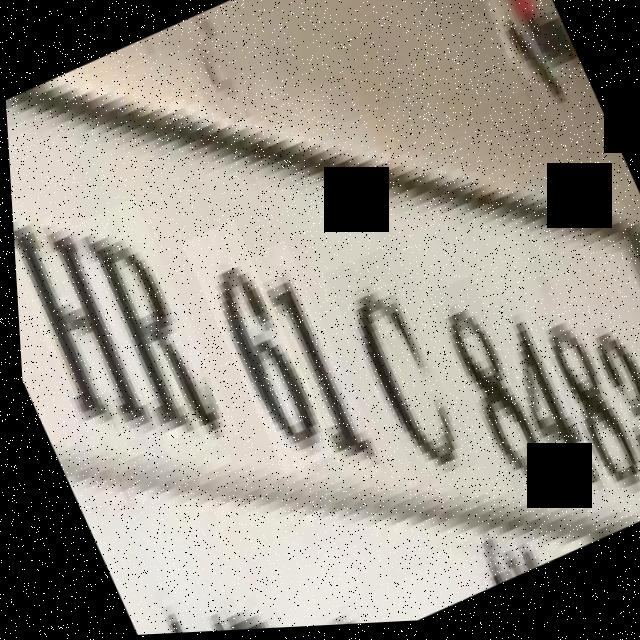1: (248, 258, 378, 463)
3: (575, 324, 640, 472)
4: (483, 312, 604, 492)
6: (184, 243, 327, 458)
8: (425, 299, 550, 486), (529, 314, 640, 498)
C: (324, 276, 471, 471)
H: (10, 213, 150, 432)
R: (74, 226, 230, 439)
